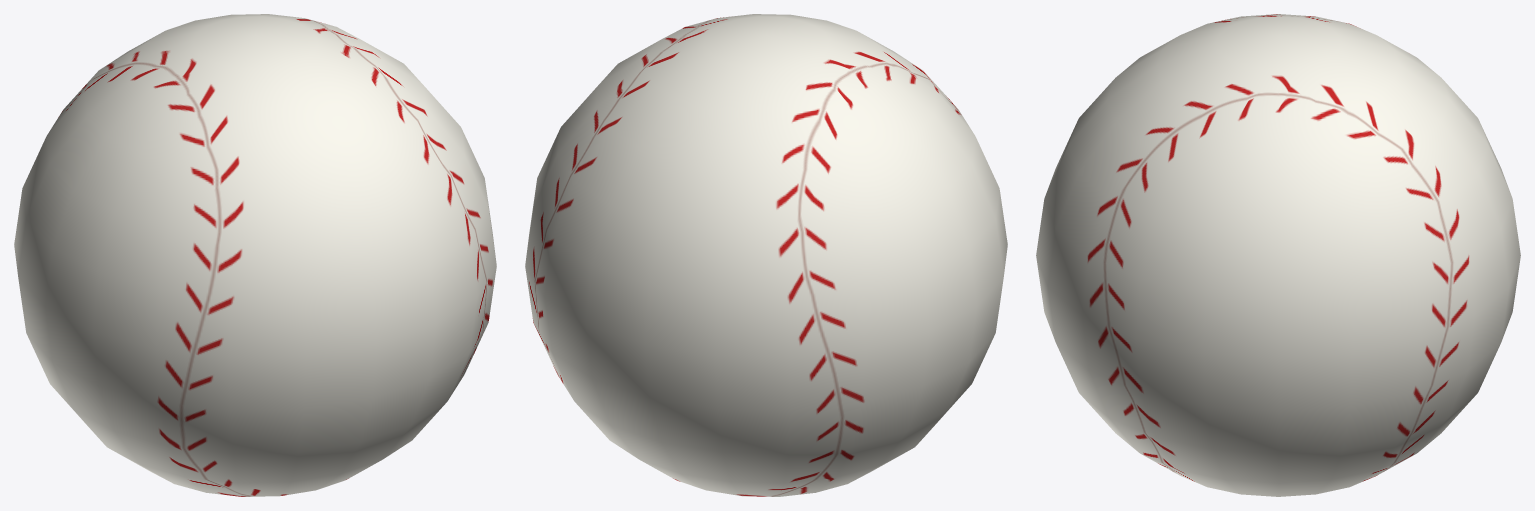
The model's file is ball.obj.
3 views of the same model, side by side, from view 1: azimuth 30°, elevation 25°; view 2: azimuth 150°, elevation 25°; view 3: azimuth 270°, elevation 25° (orthographic).
Parts seen in each view (by area): view 1: ball; view 2: ball; view 3: ball.
Part boxes in pixels (<box>): ball: <box>14,14,496,496</box>; ball: <box>525,14,1007,496</box>; ball: <box>1036,14,1520,496</box>.
Bounding box in the file's own units: 0.6 × 0.6 × 0.6.
1 material, 1 textured.
